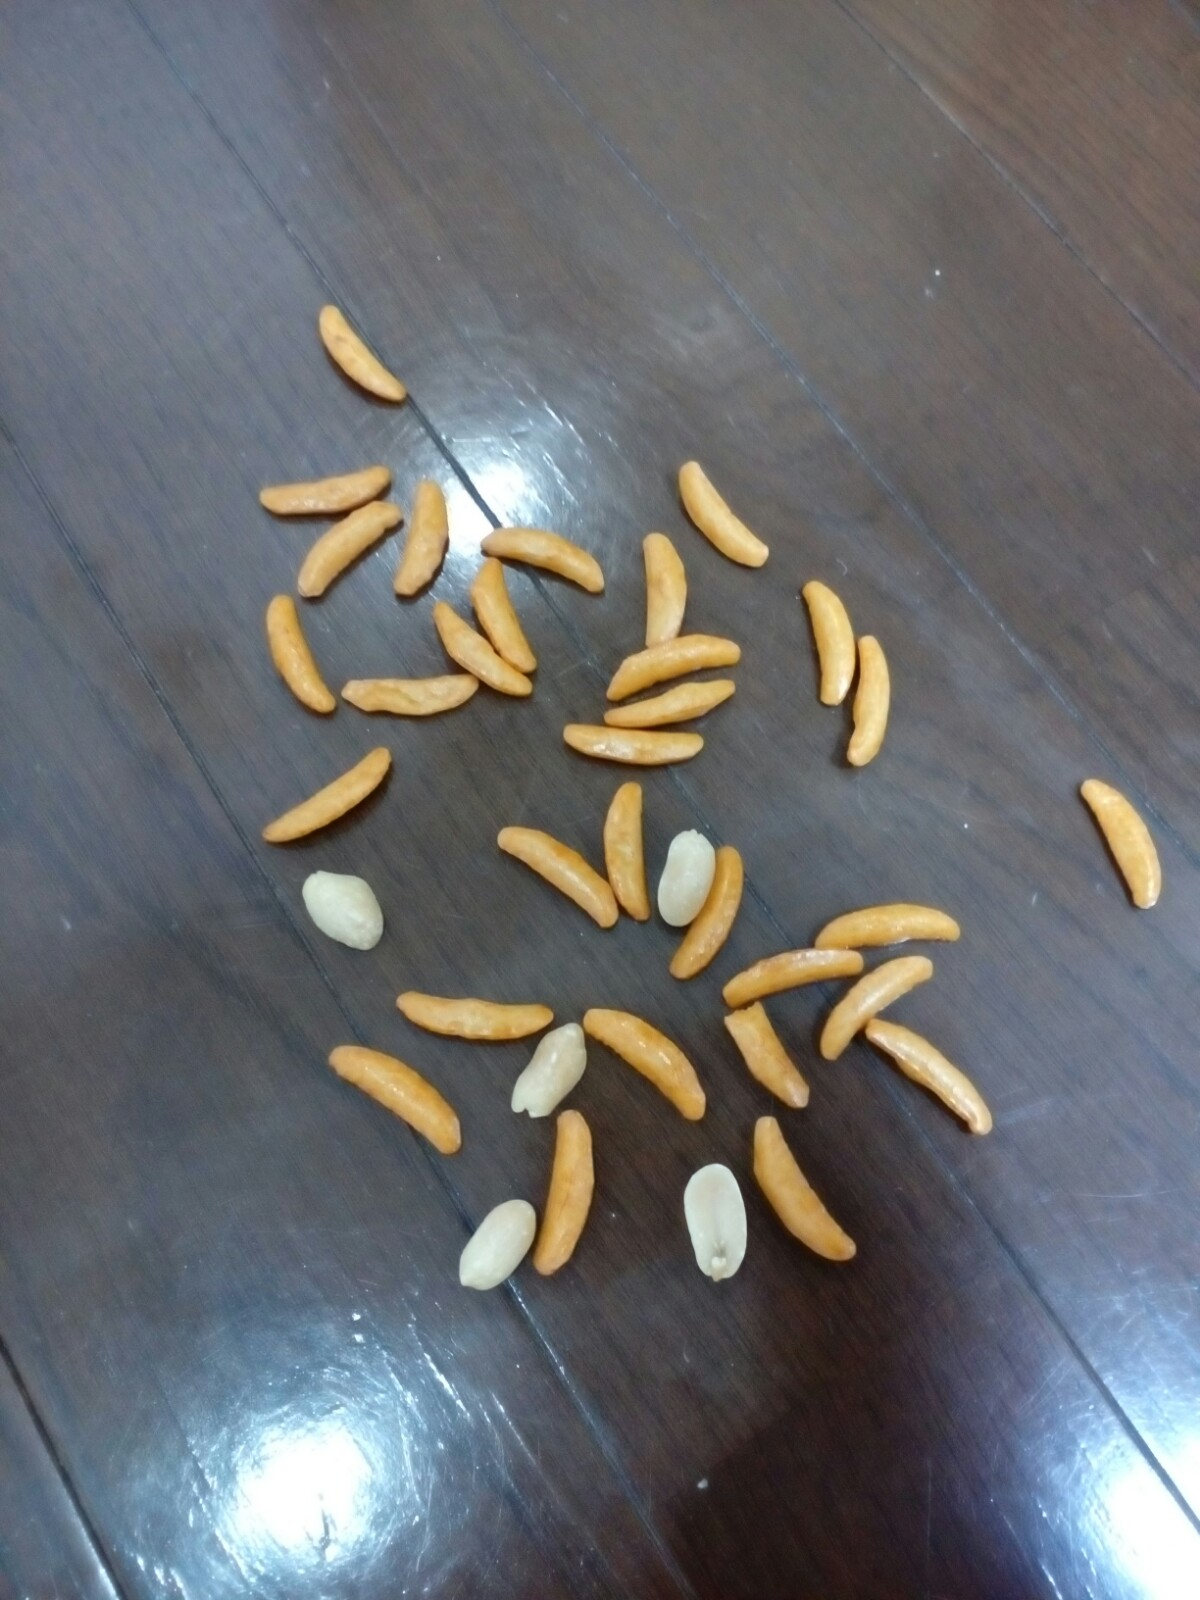peanut: (667, 1159, 771, 1291), (441, 1184, 556, 1293), (292, 860, 403, 952), (507, 1012, 601, 1119), (648, 826, 724, 925)
